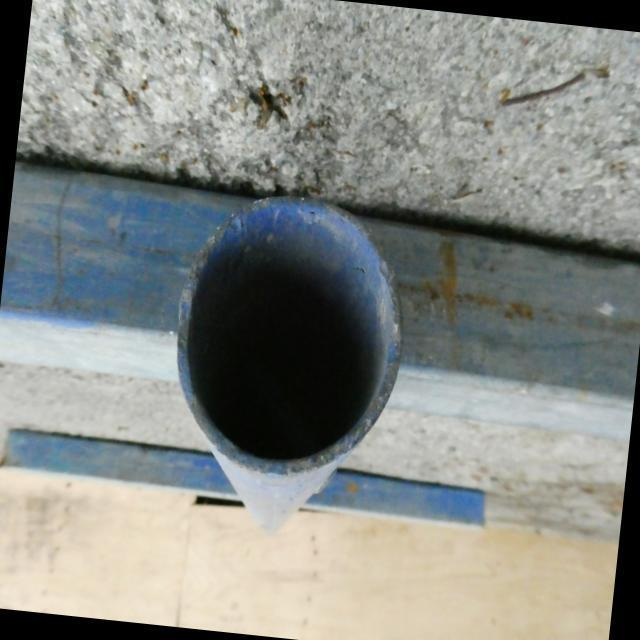pipe: (175, 195, 403, 473)
